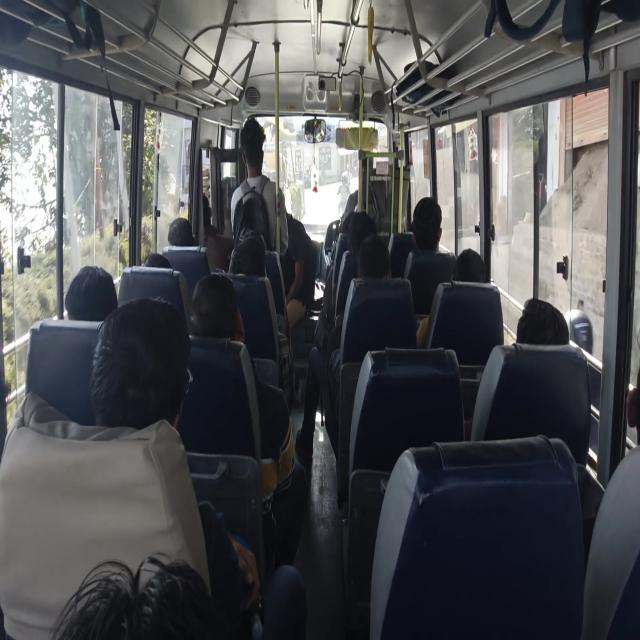person: (90, 295, 261, 614), (188, 272, 308, 568), (294, 210, 376, 460), (230, 116, 316, 325), (49, 551, 216, 639), (90, 296, 191, 431), (230, 116, 288, 255), (416, 247, 486, 348), (403, 196, 452, 279), (189, 272, 245, 342), (64, 264, 118, 321), (516, 297, 569, 345), (410, 196, 443, 252), (228, 230, 267, 276), (564, 308, 593, 356), (452, 248, 486, 283), (167, 217, 195, 246), (143, 252, 172, 268)
